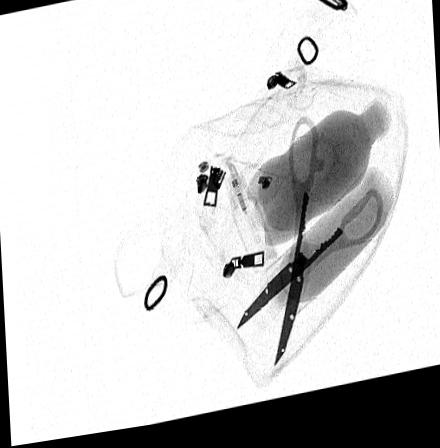Scissors: (230, 121, 384, 380)
